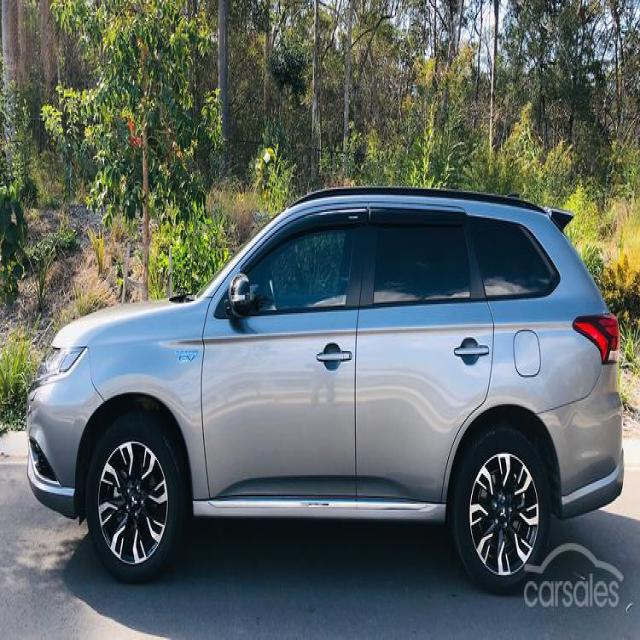light_vehicle: (26, 188, 627, 594)
